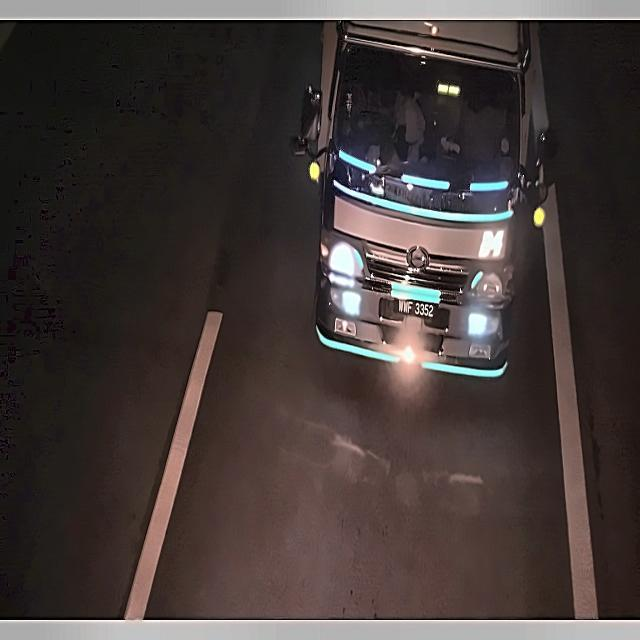car: (388, 292, 446, 330)
